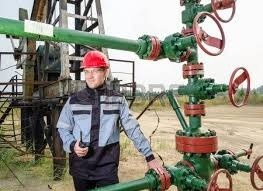helmet: (79, 50, 109, 71)
person with partial safety: (62, 49, 126, 179)
